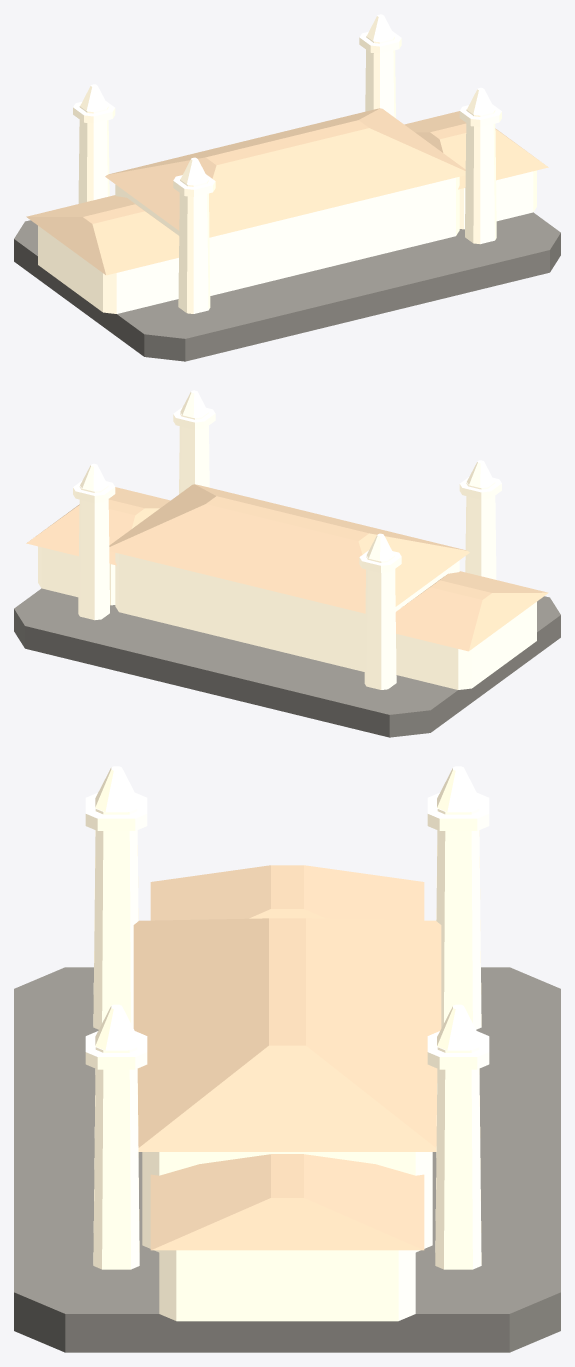
File: sultan-abu-bakar-mosque.glb
The picture shows the model from 3 angles, top to bottom: view 1: azimuth 30°, elevation 25°; view 2: azimuth 150°, elevation 25°; view 3: azimuth 270°, elevation 25°; orthographic projection. The views are drawn at different scales.
Parts seen in each view (by area): view 1: terrace, hall-roof, minarets, hall, arcade-roof--1, arcade--1, arcade-roof-1, arcade-1; view 2: terrace, hall-roof, minarets, hall, arcade-roof--1, arcade--1, arcade-roof-1, arcade-1; view 3: terrace, hall-roof, minarets, arcade-roof-1, arcade-1, arcade-roof--1, hall.
Boxes of the visible parts, x1,y1,x2,y2 form: terrace: [14, 212, 560, 361]; hall-roof: [105, 108, 465, 237]; minarets: [73, 14, 501, 313]; hall: [115, 177, 459, 295]; arcade-roof--1: [26, 195, 179, 275]; arcade--1: [38, 226, 178, 313]; arcade-roof-1: [404, 111, 548, 189]; arcade-1: [459, 170, 536, 229]; terrace: [14, 588, 560, 737]; hall-roof: [109, 484, 469, 613]; minarets: [73, 390, 501, 689]; hall: [115, 553, 459, 671]; arcade-roof--1: [395, 571, 548, 651]; arcade--1: [396, 602, 536, 689]; arcade-roof-1: [26, 487, 170, 565]; arcade-1: [38, 546, 115, 605]; terrace: [14, 967, 560, 1352]; hall-roof: [133, 918, 441, 1151]; minarets: [85, 766, 489, 1269]; arcade-roof-1: [150, 1154, 424, 1250]; arcade-1: [159, 1250, 415, 1321]; arcade-roof--1: [150, 865, 424, 920]; hall: [142, 1152, 432, 1252].
Bounding box in the file's own units: 102 × 37.64 × 64.
